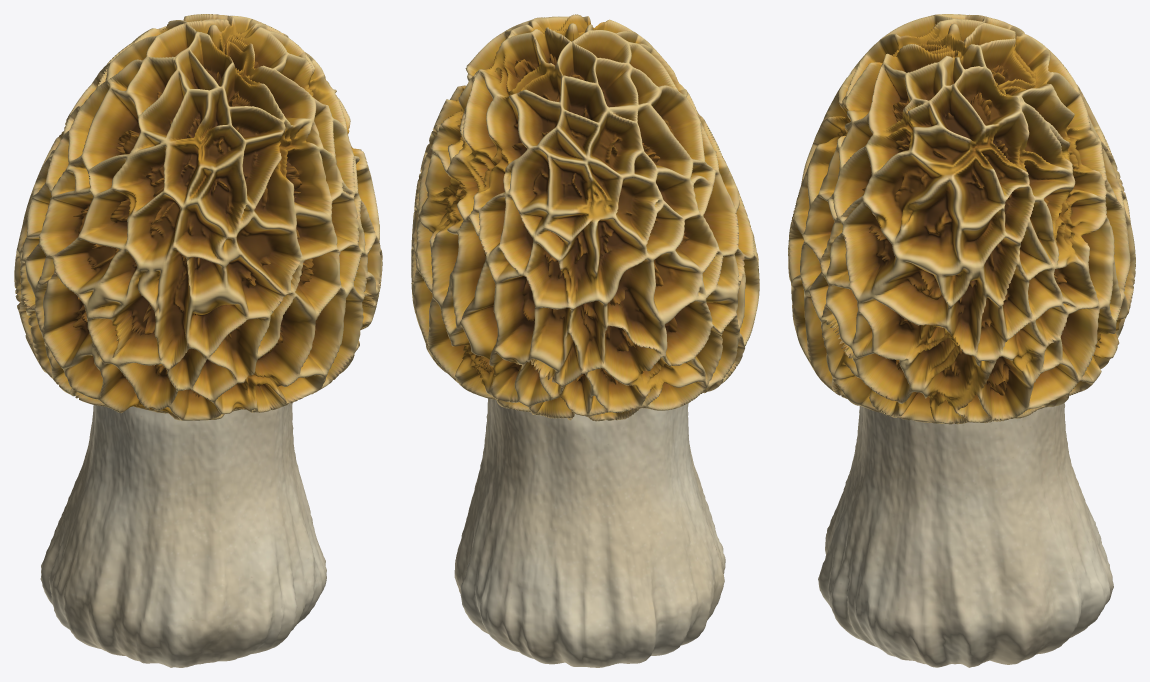
The model's file is morchella-esculenta.glb.
The picture shows the model from 3 angles, left to right: view 1: azimuth 30°, elevation 25°; view 2: azimuth 150°, elevation 25°; view 3: azimuth 270°, elevation 25°; orthographic projection. The views are drawn at different scales.
Parts seen in each view (by area): view 1: cap, stem; view 2: cap, stem; view 3: cap, stem.
Boxes of the visible parts, <box> form: cap: <box>14,14,382,420</box>; stem: <box>40,403,326,667</box>; cap: <box>411,14,759,421</box>; stem: <box>454,398,725,667</box>; cap: <box>788,14,1135,424</box>; stem: <box>818,403,1113,667</box>.
Size of the model in its own units: 0.0633 by 0.1168 by 0.0585.
2 materials, 2 textured.
